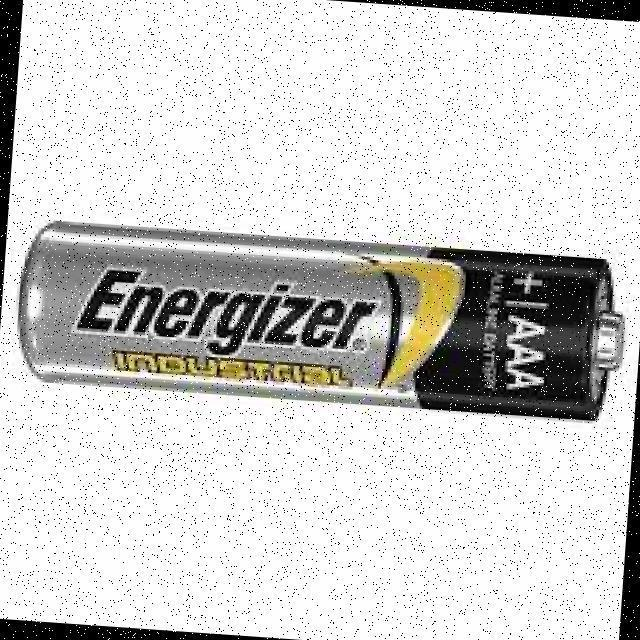AAA: (17, 219, 624, 421)
